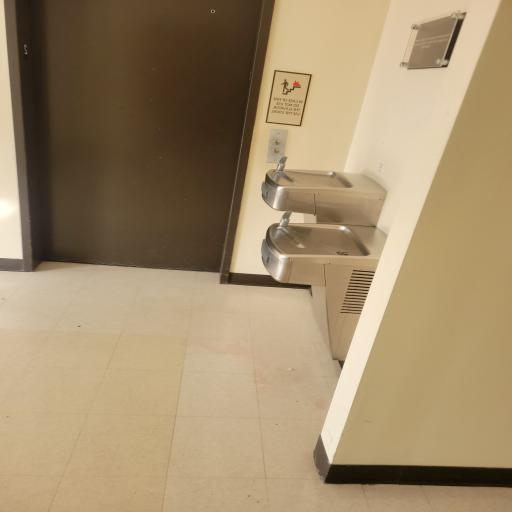water fountain: (256, 217, 400, 368), (260, 153, 383, 222)
